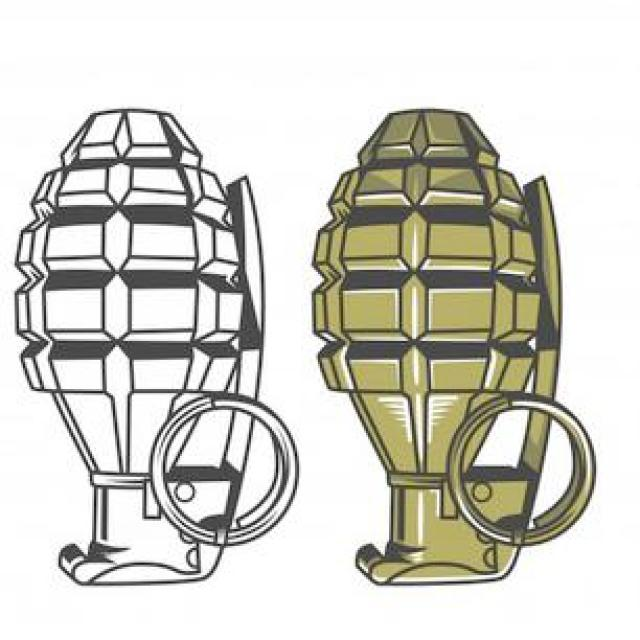grenade: (311, 107, 598, 587), (16, 110, 303, 589)
